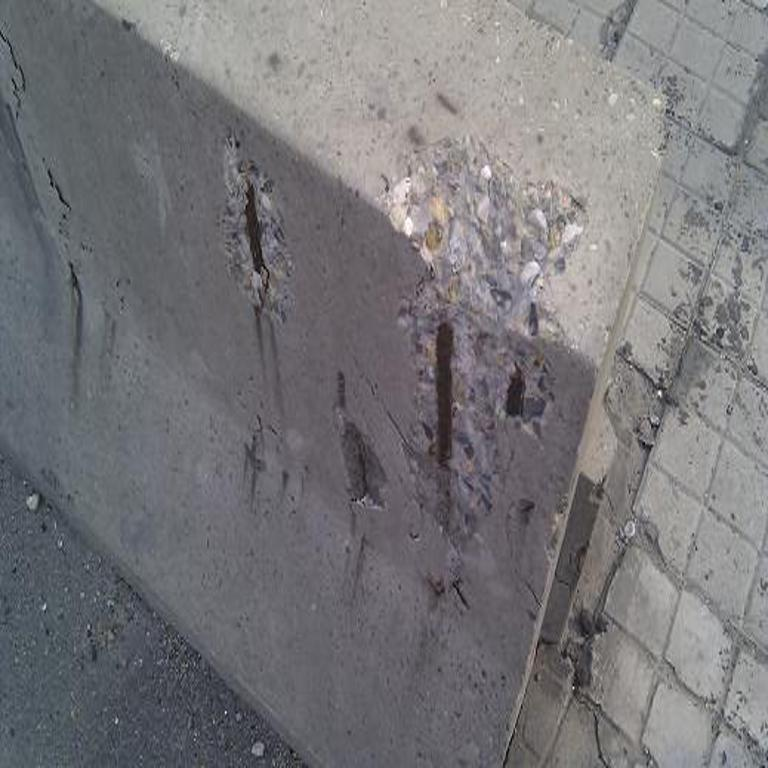exposed_rebar: (244, 172, 270, 292), (435, 322, 453, 465), (506, 364, 525, 416)
spalling: (382, 135, 584, 518), (222, 135, 292, 322), (336, 370, 387, 510)
